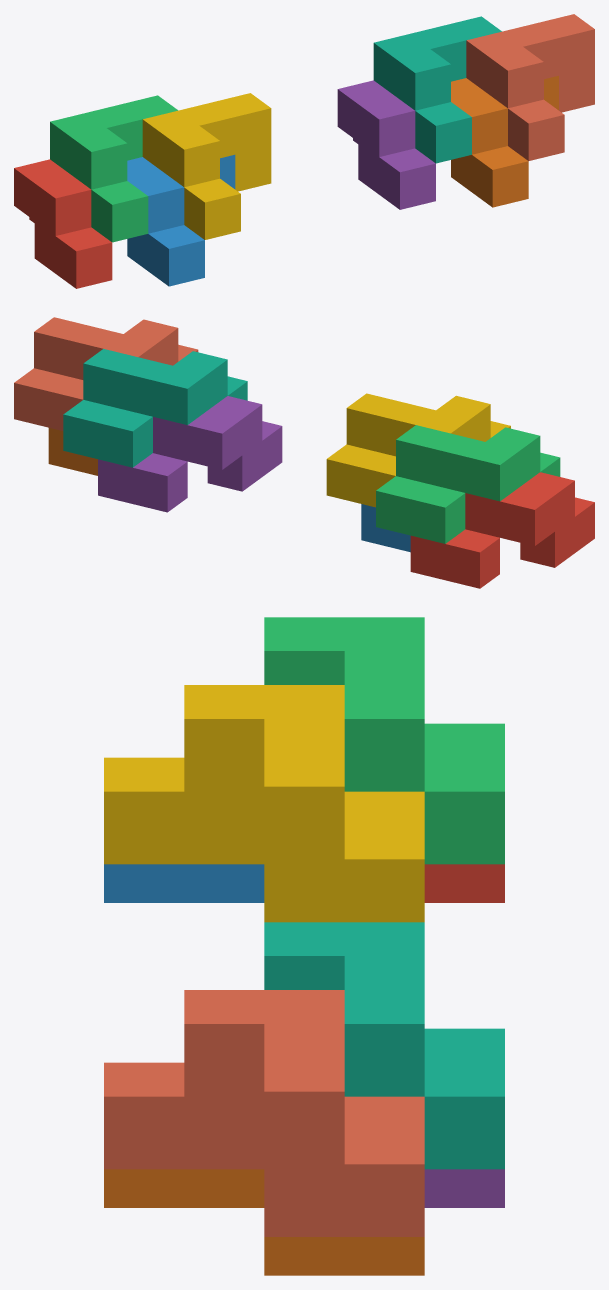
File: tiling.obj
3 views of the same model, one above another, from view 1: azimuth 30°, elevation 25°; view 2: azimuth 150°, elevation 25°; view 3: azimuth 270°, elevation 25° (orthographic). The views are drawn at different scales.
Parts seen in each view (by area): view 1: copy_1_domain_4, copy_1_domain_8, copy_1_domain_3, copy_1_domain_7, copy_1_domain_1, copy_1_domain_5, copy_1_domain_2, copy_1_domain_6; view 2: copy_1_domain_3, copy_1_domain_7, copy_1_domain_5, copy_1_domain_1, copy_1_domain_4, copy_1_domain_8, copy_1_domain_6, copy_1_domain_2; view 3: copy_1_domain_8, copy_1_domain_4, copy_1_domain_3, copy_1_domain_7, copy_1_domain_6, copy_1_domain_2, copy_1_domain_1, copy_1_domain_5.
Part boxes in pixels (box(x1,y1,x2,y2)): copy_1_domain_4: box(142, 93, 271, 239); copy_1_domain_8: box(466, 14, 594, 160); copy_1_domain_3: box(50, 95, 178, 242); copy_1_domain_7: box(373, 16, 501, 163); copy_1_domain_1: box(14, 159, 112, 288); copy_1_domain_5: box(337, 80, 435, 209); copy_1_domain_2: box(127, 154, 235, 286); copy_1_domain_6: box(451, 75, 558, 207); copy_1_domain_3: box(376, 425, 560, 543); copy_1_domain_7: box(63, 349, 247, 467); copy_1_domain_5: box(98, 396, 282, 512); copy_1_domain_1: box(410, 472, 594, 588); copy_1_domain_4: box(326, 393, 510, 507); copy_1_domain_8: box(14, 317, 198, 430); copy_1_domain_6: box(48, 428, 97, 475); copy_1_domain_2: box(361, 504, 410, 552); copy_1_domain_8: box(104, 990, 424, 1236); copy_1_domain_4: box(104, 685, 424, 922); copy_1_domain_3: box(264, 617, 504, 864); copy_1_domain_7: box(264, 922, 504, 1169); copy_1_domain_6: box(104, 1169, 424, 1275); copy_1_domain_2: box(104, 864, 264, 902); copy_1_domain_1: box(424, 864, 504, 902); copy_1_domain_5: box(424, 1169, 504, 1207).
Bounding box in the file's own units: 15 × 3 × 5.
